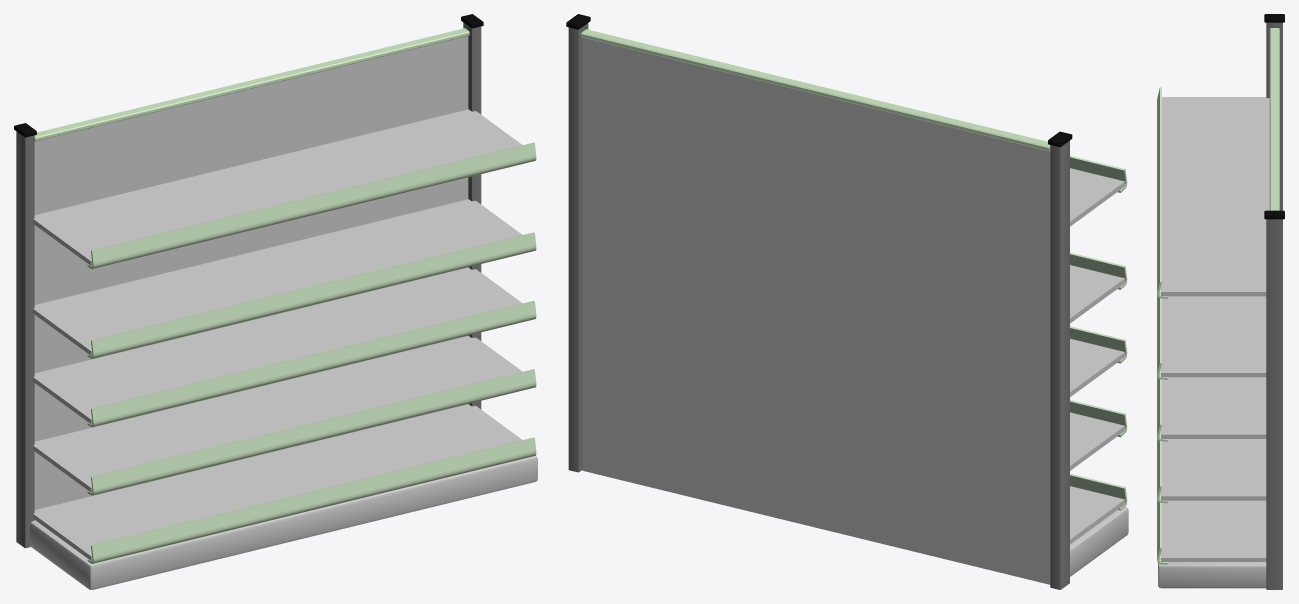
Rendered from SM_shelf_02.fbx.
3 renders of one model, left to right at view 1: azimuth 30°, elevation 25°; view 2: azimuth 150°, elevation 25°; view 3: azimuth 270°, elevation 25°, orthographic. The views are drawn at different scales.
Parts seen in each view (by area): view 1: Object32281; view 2: Object32281; view 3: Object32281.
Boxes of the visible parts, bbox=[...] form: Object32281: bbox=[14, 14, 537, 589]; Object32281: bbox=[566, 14, 1128, 589]; Object32281: bbox=[1157, 14, 1284, 589].
Bounding box in the file's own units: 265 × 230 × 70.77.
